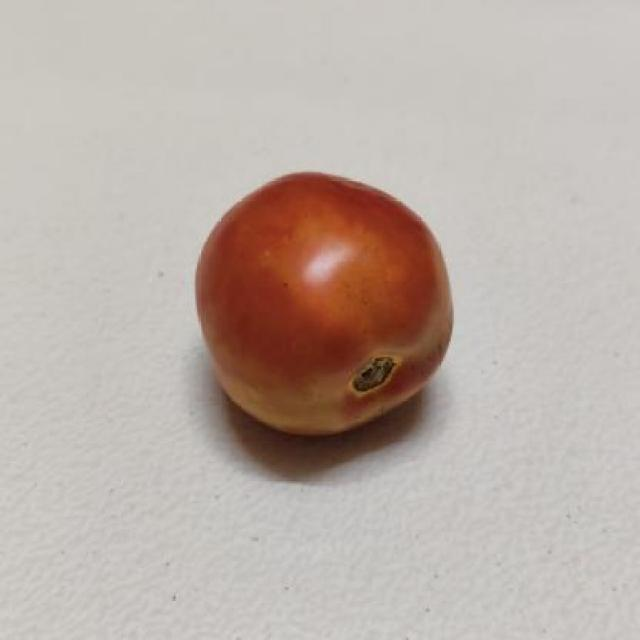tomato: (171, 160, 464, 443)
